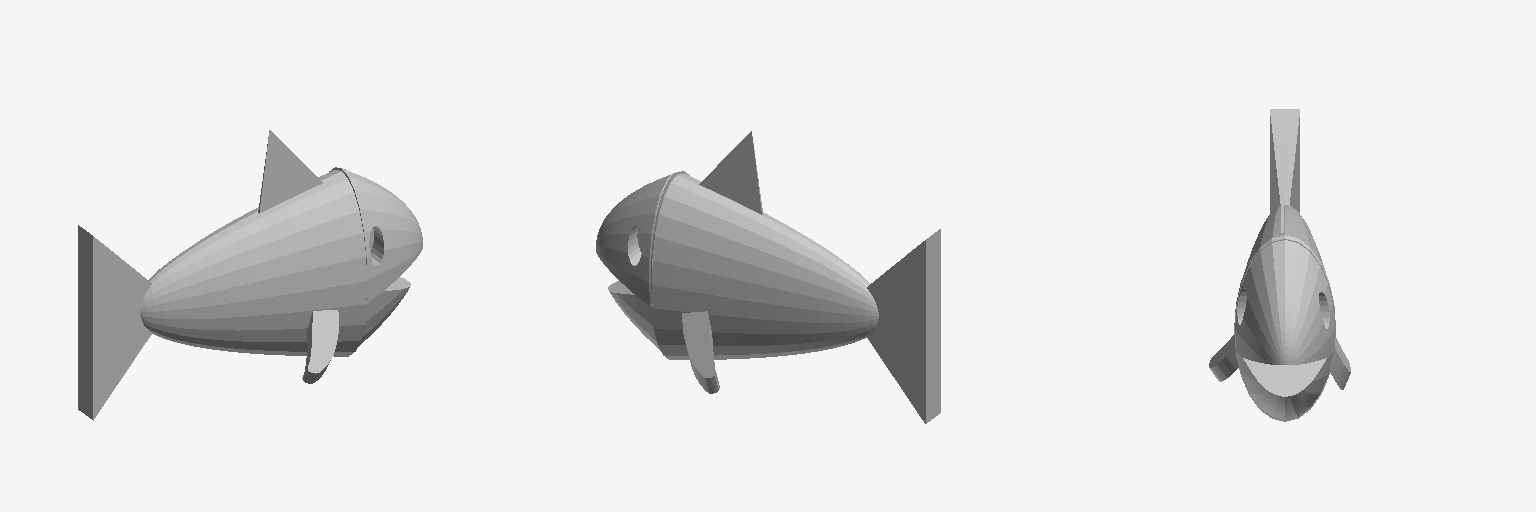
Rendered from fish.obj.
The picture shows the model from 3 angles: view 1: azimuth 30°, elevation 25°; view 2: azimuth 150°, elevation 25°; view 3: azimuth 270°, elevation 25°; orthographic projection.
Parts seen in each view (by area): view 1: obj_0; view 2: obj_0; view 3: obj_0.
Part boxes in pixels (x1,y1,x2,y2): obj_0: (78,130,422,420); obj_0: (596,131,940,423); obj_0: (1209,109,1350,421).
Size of the model in its own units: 38 by 26.51 by 14.